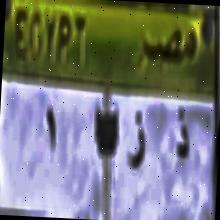1: (42, 102, 62, 156)
zaal: (168, 107, 193, 165)
zay: (124, 108, 149, 180)
